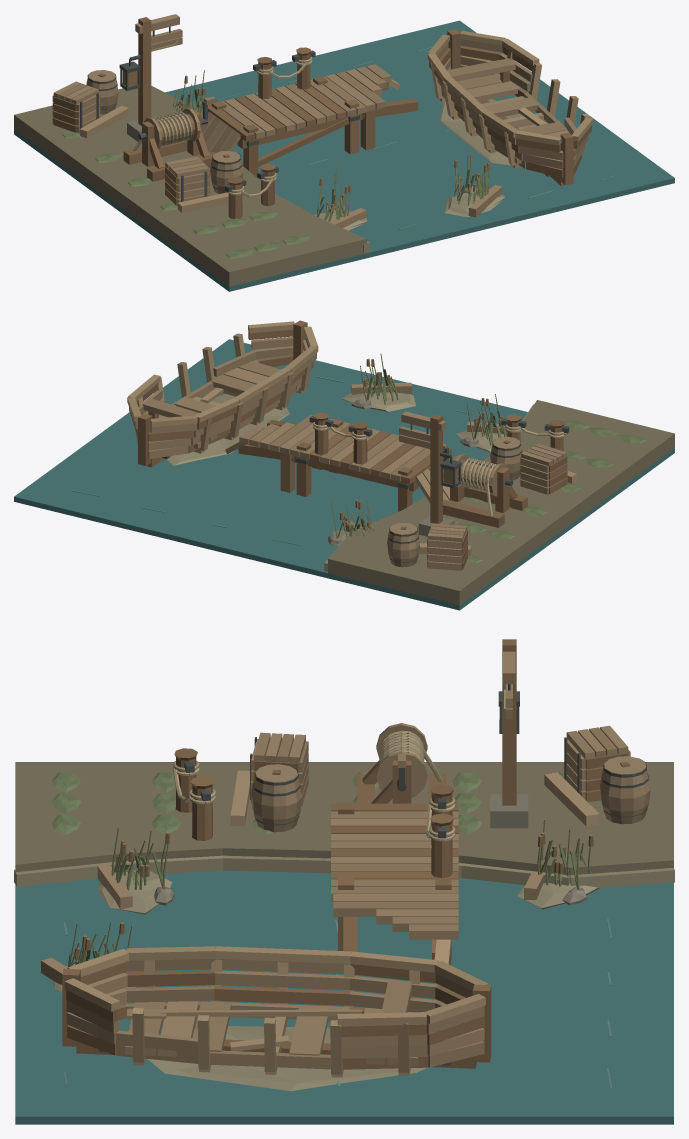
File: reedwake-crossing.glb
3 views of the same model, one above another, from view 1: azimuth 30°, elevation 25°; view 2: azimuth 150°, elevation 25°; view 3: azimuth 270°, elevation 25° (orthographic). The views are drawn at different scales.
Visible parts, largest first — view 1: reedwake-crossing; view 2: reedwake-crossing; view 3: reedwake-crossing.
Boxes of the visible parts, bbox=[...] form: reedwake-crossing: bbox=[14, 14, 674, 291]; reedwake-crossing: bbox=[14, 320, 674, 610]; reedwake-crossing: bbox=[14, 639, 674, 1124].
Bounding box in the file's own units: 11 × 3.19 × 9.24.
